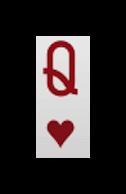QH: (39, 38, 83, 151)
